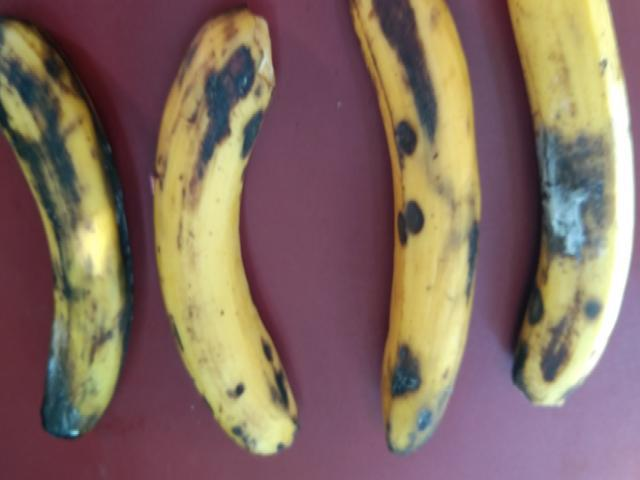overripe: (138, 0, 315, 452), (323, 0, 496, 458)
rotten: (0, 3, 146, 451), (490, 0, 639, 412)
